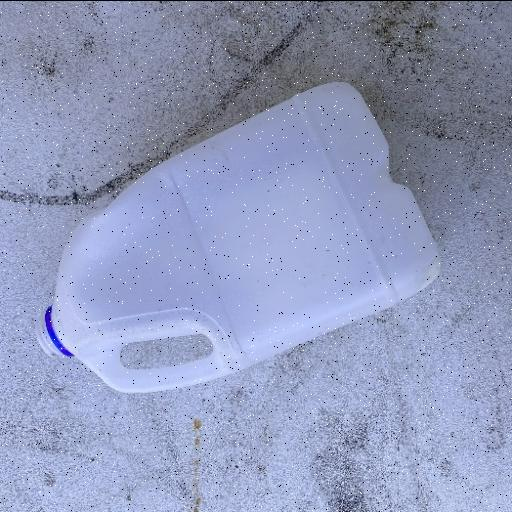Plastic: (34, 80, 444, 396)
